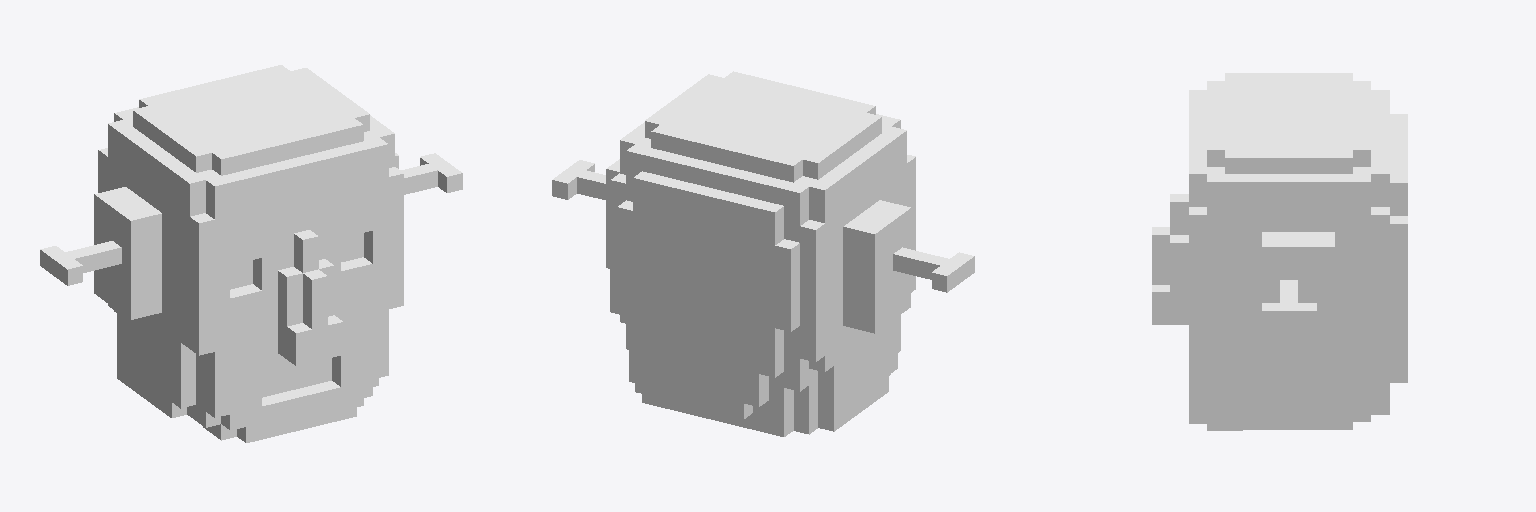
The model's file is robot0_head.obj.
3 views of the same model, side by side, from view 1: azimuth 30°, elevation 25°; view 2: azimuth 150°, elevation 25°; view 3: azimuth 270°, elevation 25° (orthographic).
Parts seen in each view (by area): view 1: robot0_head; view 2: robot0_head; view 3: robot0_head.
Part boxes in pixels (x1,y1,x2,y2): robot0_head: (40,65,462,442); robot0_head: (552,71,974,436); robot0_head: (1152,73,1407,430).
Size of the model in its own units: 25 by 17 by 14.